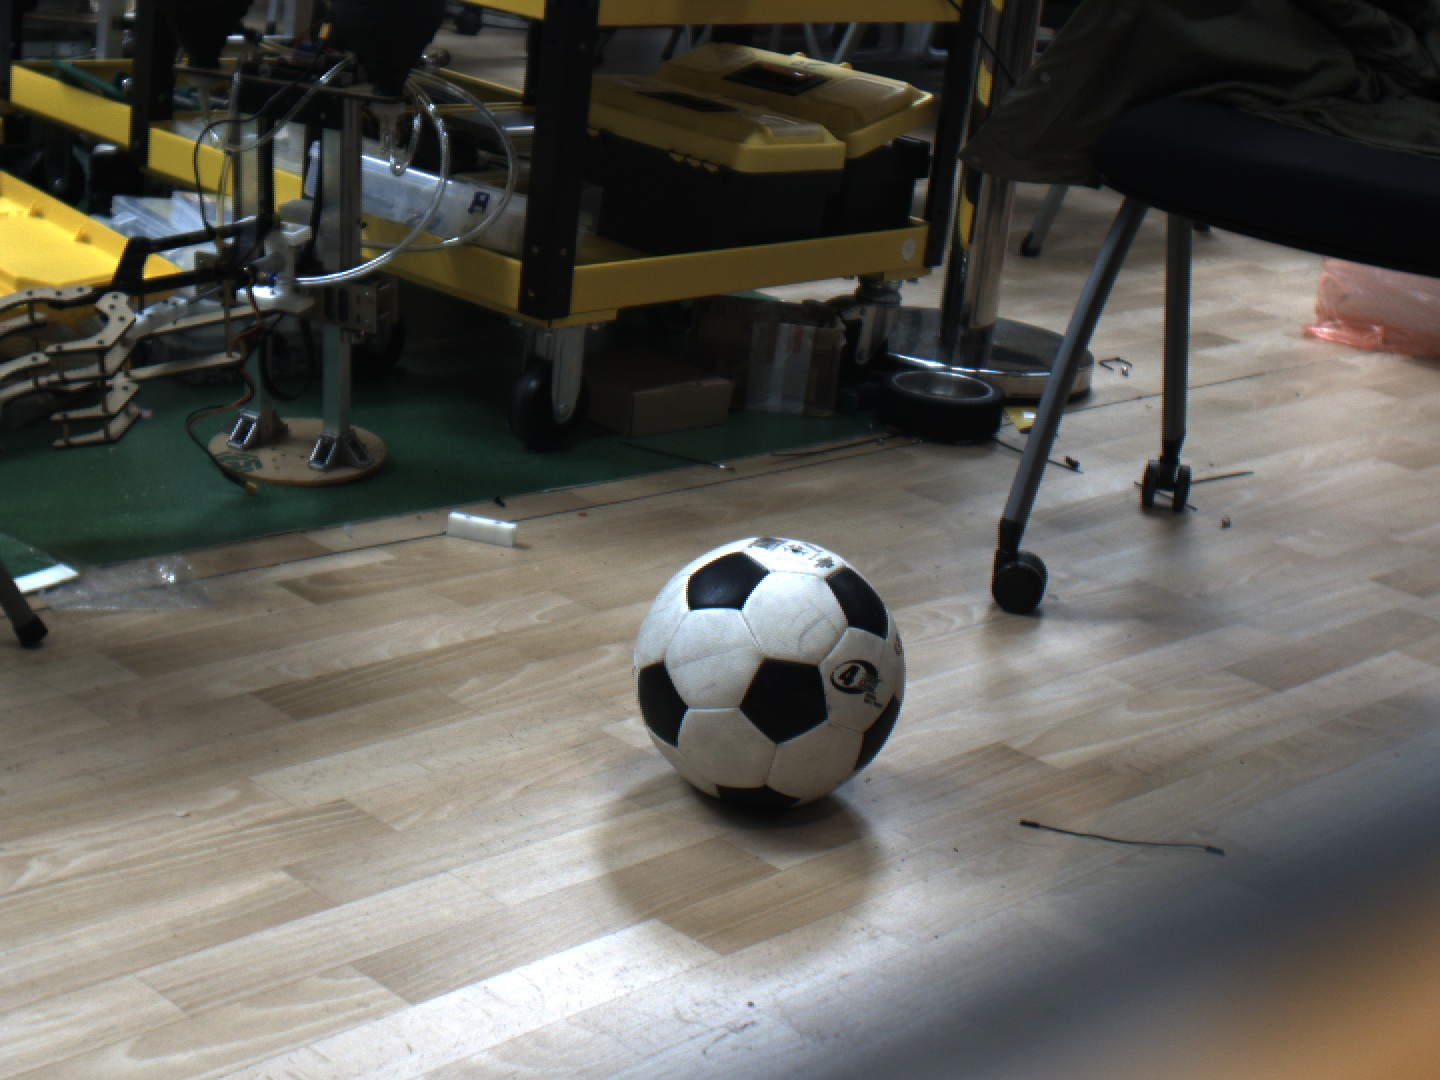ball: (603, 517, 933, 835)
